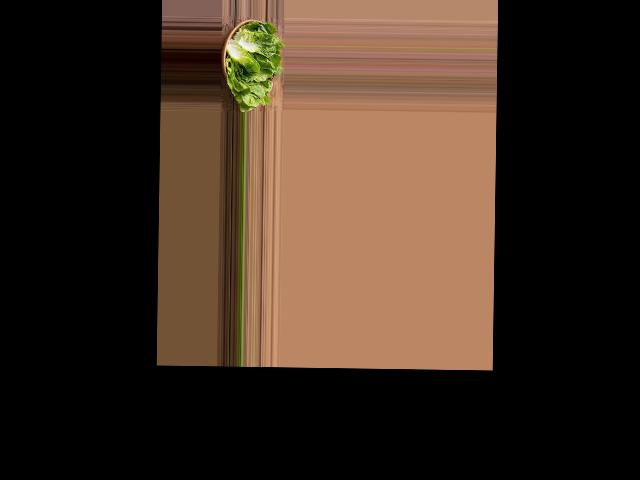lettuce: (221, 15, 281, 111)
